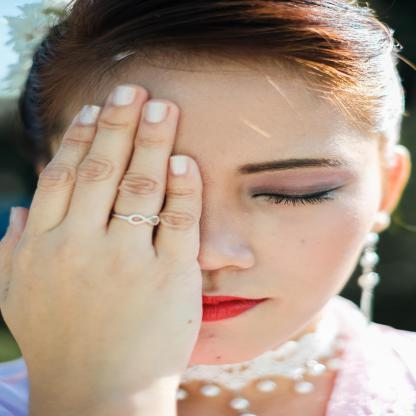Eye: (243, 178, 350, 205)
Mouth: (201, 295, 270, 323)
Nose: (198, 191, 256, 271)
